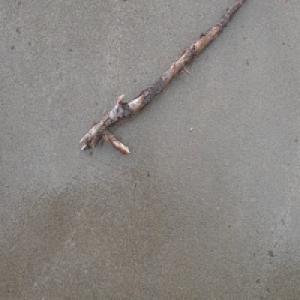Wood: (79, 0, 247, 157)
